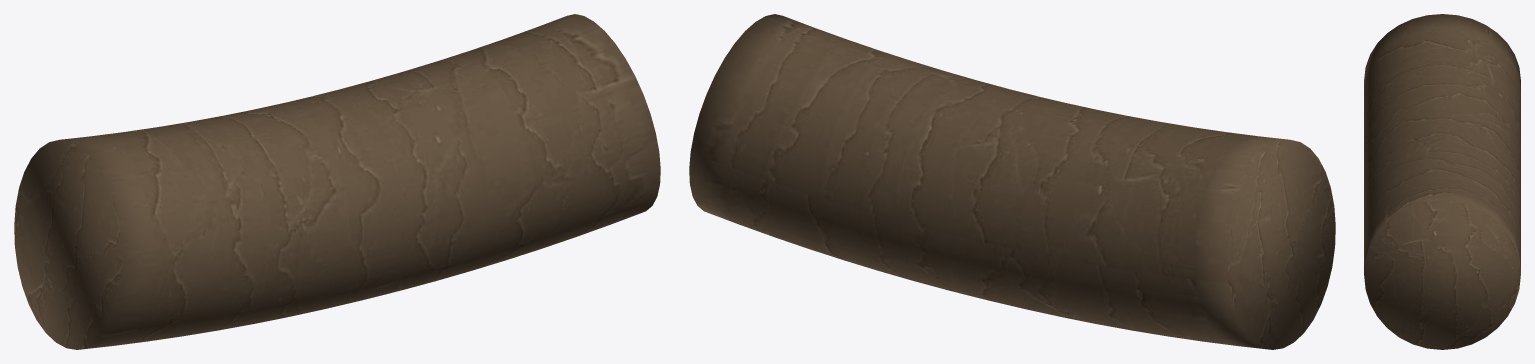
File: Hair.glb
3 renders of one model, left to right at view 1: azimuth 30°, elevation 25°; view 2: azimuth 150°, elevation 25°; view 3: azimuth 270°, elevation 25°, orthographic. The views are drawn at different scales.
Visible parts, largest first — view 1: Cylinder; view 2: Cylinder; view 3: Cylinder.
Part boxes in pixels (box(x1,y1,x2,y2)): Cylinder: box(14, 14, 660, 349); Cylinder: box(689, 14, 1335, 349); Cylinder: box(1364, 14, 1520, 349).
Bounding box in the file's own units: 14.64 × 5.21 × 4.75.
Materials: 1 (1 with a texture image).
